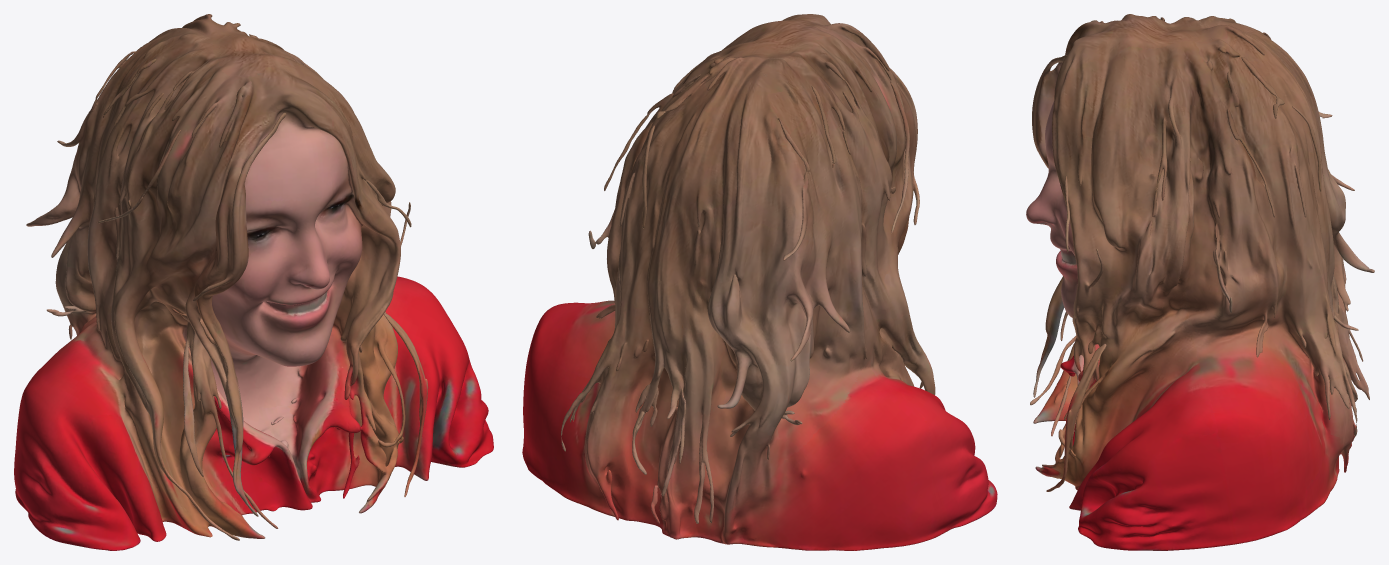
The model's file is Milly_alcock_3d.glb.
3 views of the same model, side by side, from view 1: azimuth 30°, elevation 25°; view 2: azimuth 150°, elevation 25°; view 3: azimuth 270°, elevation 25° (orthographic). The views are drawn at different scales.
Parts seen in each view (by area): view 1: tripo_node_399bf414-2b2e-44b2-9e34-e35ee6baaa33; view 2: tripo_node_399bf414-2b2e-44b2-9e34-e35ee6baaa33; view 3: tripo_node_399bf414-2b2e-44b2-9e34-e35ee6baaa33.
Part boxes in pixels (x1,y1,x2,y2): tripo_node_399bf414-2b2e-44b2-9e34-e35ee6baaa33: [14, 14, 493, 550]; tripo_node_399bf414-2b2e-44b2-9e34-e35ee6baaa33: [522, 14, 997, 550]; tripo_node_399bf414-2b2e-44b2-9e34-e35ee6baaa33: [1026, 14, 1374, 550].
Size of the model in its own units: 1 by 0.9624 by 0.7232.
1 material, 1 textured.
